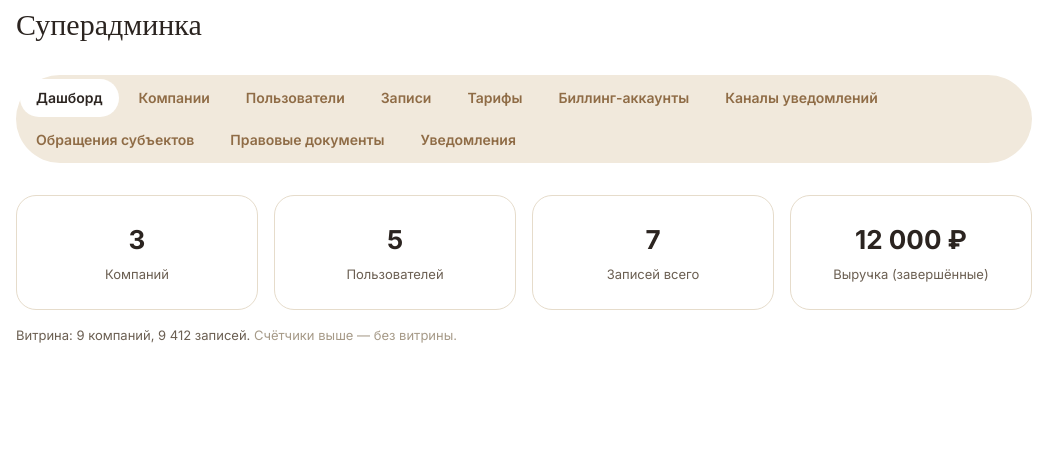
AdminPage — companies tab › a failed load shows an error instead of «Компаний не найдено»
Click the button "Компании": point(174, 98) [123,79,226,117]
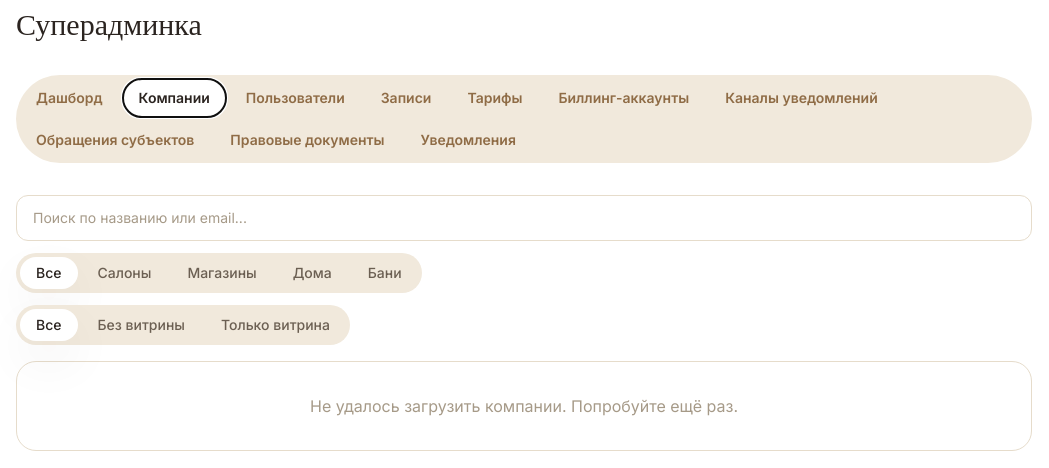
Now the text "Не удалось загрузить компании. Попробуйте ещё раз." is shown, box [16,361,1032,451]
